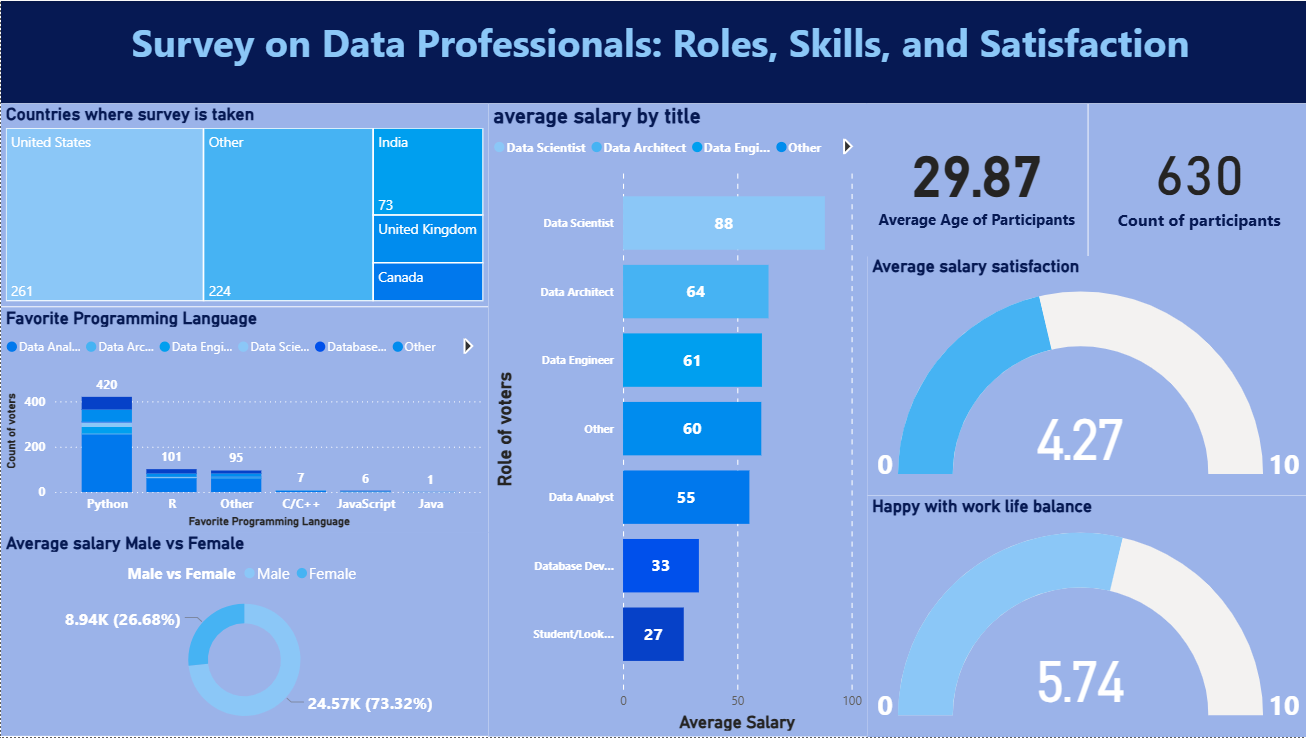

The dashboard page shown, as its layout file describes it:
{"tool":"powerbi","page":{"name":"Page 1","canvas":[1280,720],"ordinal":0},"visuals":[{"type":"textbox","box":[0,0,1280.4,100.5],"z":0},{"type":"card","fields":{"Values":["CountNonNull(Data Professional Survey.Unique ID)"]},"box":[1063.4,100.5,216.9,149.9],"z":1000},{"type":"card","fields":{"Values":["Avg(Data Professional Survey.Q10 - Current Age)"]},"box":[846.5,100.5,216.9,149.9],"z":2000},{"type":"barChart","title":"average salary by title","fields":{"Category":["Data Professional Survey.Q1 - Which Title Best Fits your Current Role?.1"],"Y":["Avg(Data Professional Survey.avg_salary)"],"Series":["Data Professional Survey.Q1 - Which Title Best Fits your Current Role?.1"]},"box":[476.5,100.1,370.4,618.9],"z":3000},{"type":"columnChart","title":"Favorite Programming Language","fields":{"Category":["Data Professional Survey.Q5 - Favorite Programming Language.1"],"Y":["CountNonNull(Data Professional Survey.Unique ID)"],"Series":["Data Professional Survey.Q1 - Which Title Best Fits your Current Role?.1"]},"box":[0,299.2,476.5,220.8],"z":4000},{"type":"treemap","title":"Countries survey takers","fields":{"Group":["Data Professional Survey.Q11 - Which Country do you live in?.1"],"Values":["CountNonNull(Data Professional Survey.Q11 - Which Country do you live in?.1)"]},"box":[0,100.4,476.8,198.3],"z":5000},{"type":"gauge","title":"Happy with work life balance","fields":{"Y":["Avg(Data Professional Survey.Q6 - How Happy are you in your Current Position with the following? (Work/Life Balance))"],"MinValue":["Min(Data Professional Survey.Q6 - How Happy are you in your Current Position with the following? (Work/Life Balance))"],"MaxValue":["Max(Data Professional Survey.Q6 - How Happy are you in your Current Position with the following? (Work/Life Balance))"]},"box":[855.4,483.8,424.7,236.5],"z":6000},{"type":"gauge","title":"Average salary satisfaction","fields":{"Y":["Avg(Data Professional Survey.Q6 - How Happy are you in your Current Position with the following? (Salary))"],"MinValue":["Min(Data Professional Survey.Q6 - How Happy are you in your Current Position with the following? (Salary))"],"MaxValue":["Max(Data Professional Survey.Q6 - How Happy are you in your Current Position with the following? (Salary))"]},"box":[855.4,255.8,417.4,228],"z":7000},{"type":"donutChart","title":"Average salary Male vs Female","fields":{"Category":["Data Professional Survey.Q9 - Male/Female?"],"Y":["Sum(Data Professional Survey.avg_salary)"]},"box":[0,520,476.5,199.1],"z":8000}]}

Visuals, with their boxes in screenshot pixels (x1, y1, x2, y2), scaled from the page's 1280x720 canvas onto the 1306x738 screenshot:
textbox: <box>0,0,1305,103</box>
card - CountNonNull(Data Professional Survey.Unique ID): <box>1085,103,1305,257</box>
card - Avg(Data Professional Survey.Q10 - Current Age): <box>864,103,1085,257</box>
"average salary by title" barChart: <box>486,103,864,737</box>
"Favorite Programming Language" columnChart: <box>0,307,486,533</box>
"Countries survey takers" treemap: <box>0,103,486,306</box>
"Happy with work life balance" gauge: <box>873,496,1305,737</box>
"Average salary satisfaction" gauge: <box>873,262,1299,496</box>
"Average salary Male vs Female" donutChart: <box>0,533,486,737</box>
